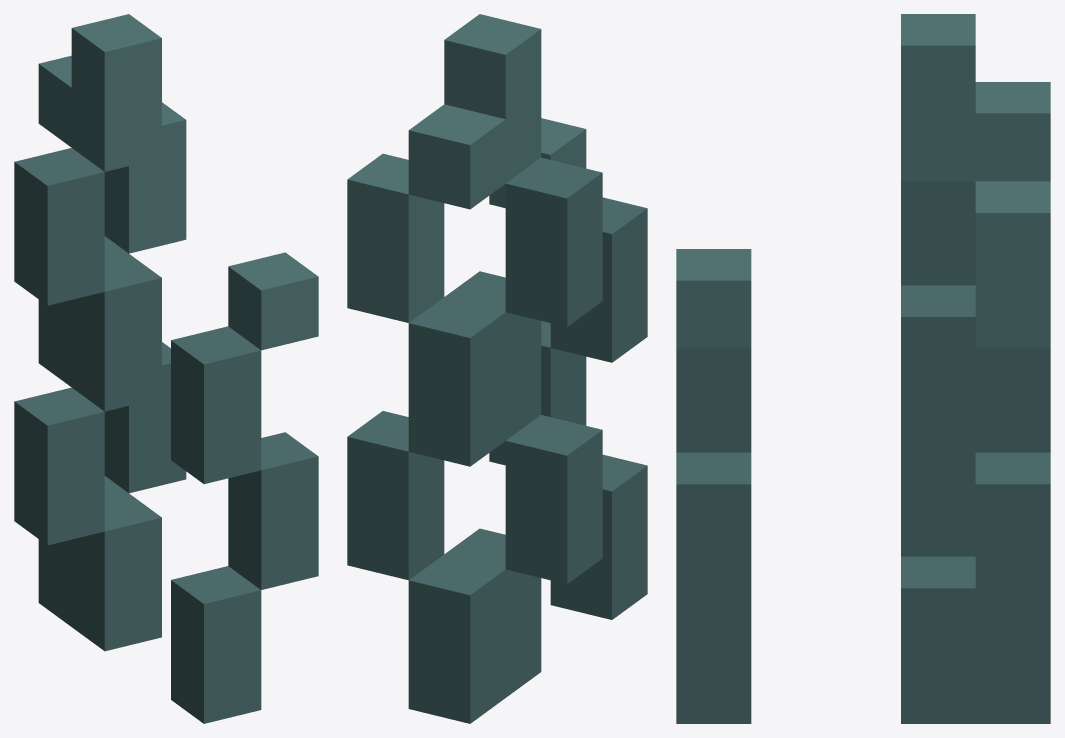
File: musgo_abisal_01.glb
3 renders of one model, left to right at view 1: azimuth 30°, elevation 25°; view 2: azimuth 150°, elevation 25°; view 3: azimuth 270°, elevation 25°, orthographic. The views are drawn at different scales.
Parts seen in each view (by area): view 1: musgo_abisal_01; view 2: musgo_abisal_01; view 3: musgo_abisal_01.
Part boxes in pixels (x1,y1,x2,y2): musgo_abisal_01: (14,14,318,723); musgo_abisal_01: (347,14,647,723); musgo_abisal_01: (676,14,1050,723).
Bounding box in the file's own units: 0.3 × 1 × 0.5.
